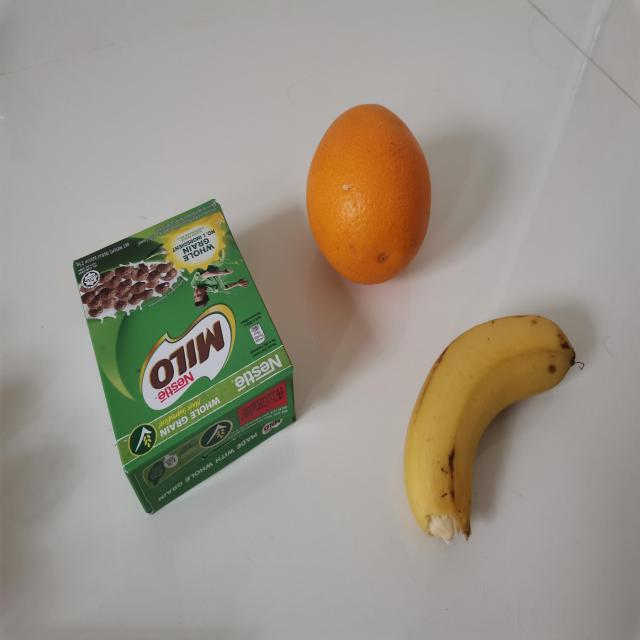Banana: (398, 309, 586, 547)
Cerealbox: (68, 195, 301, 518)
Orange: (303, 101, 433, 287)
